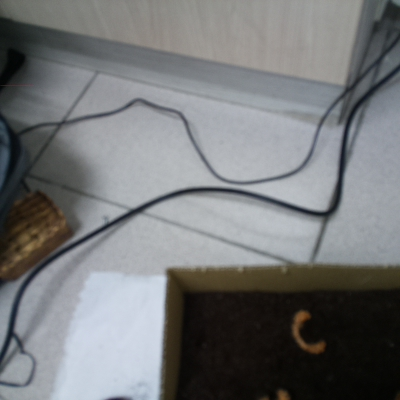eggs: (285, 304, 331, 360), (253, 380, 293, 400)
